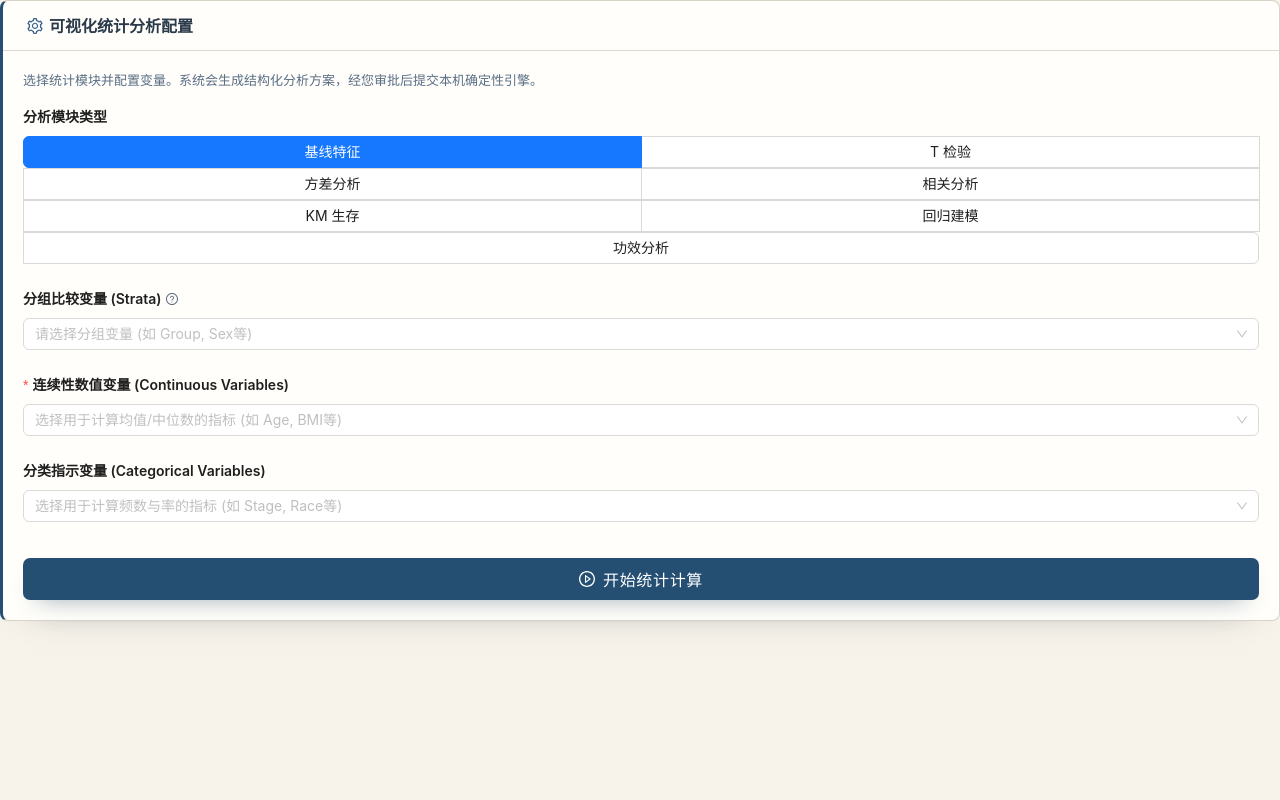
AnalysisConfigurator › shows scalar-only fields for power analysis and no column pickers
The width and height of the screenshot is (1280, 800).
What coordinates should you click on to do the following:
click the radio button labelled "功效分析"
I would click on:
 (641, 248)
Its box is x1=23 y1=232 x2=1259 y2=264.
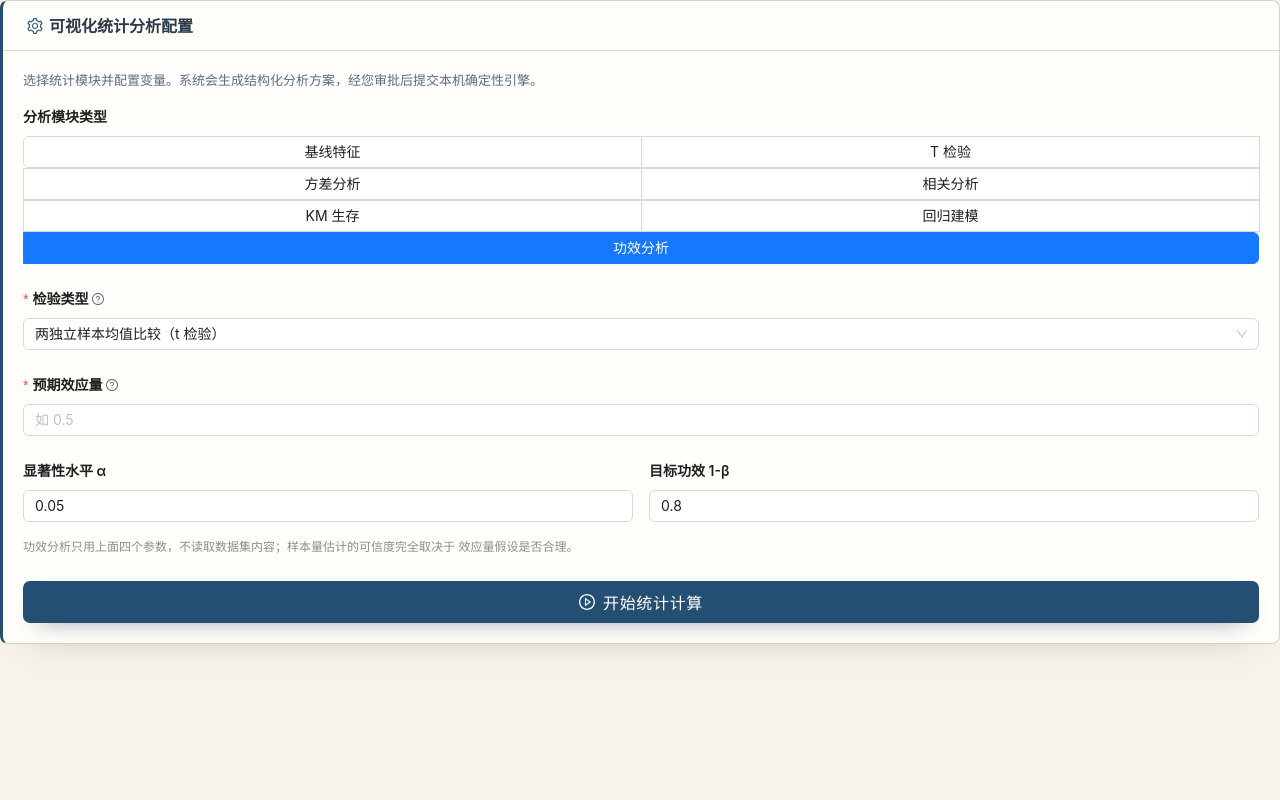
expect the search field labelled "检验类型" is shown: met, box x1=23 y1=288 x2=118 y2=310
expect the text "分组比较变量" is gone: met
expect the text "连续性数值变量" is gone: met
